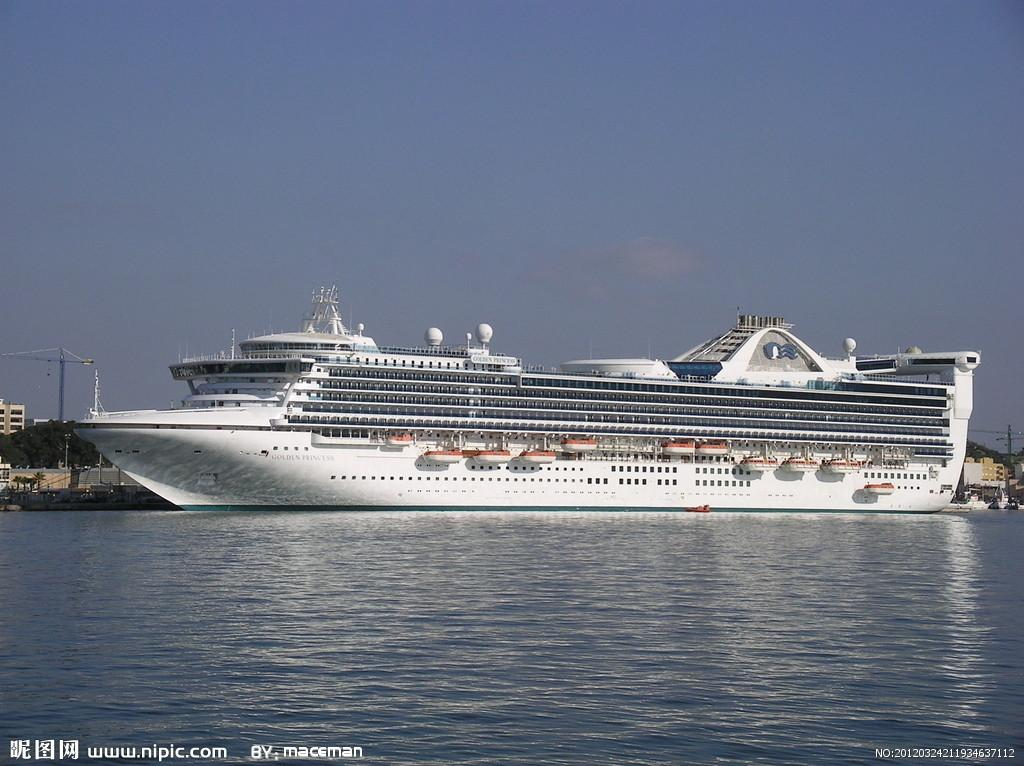youlun: (64, 283, 980, 511)
